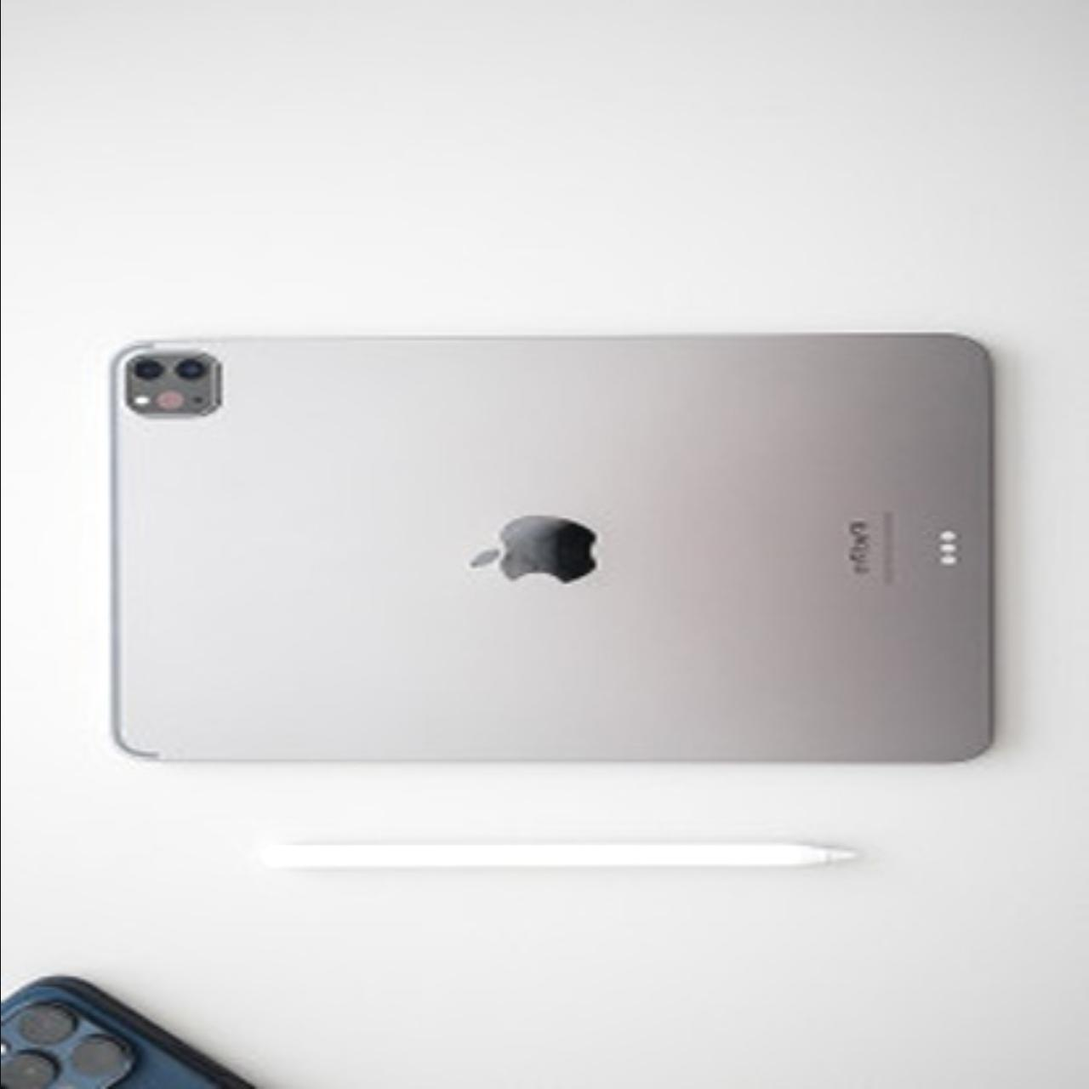Tablet_PC: (100, 327, 1010, 782)
